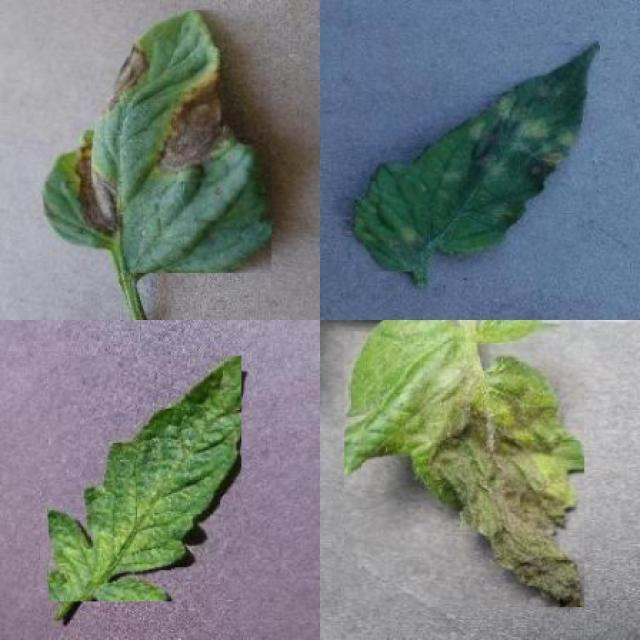Early Blight: (42, 10, 272, 274)
Late Blight: (345, 320, 585, 607)
Leaf Mold: (356, 41, 600, 272)
Mosaic Virus: (48, 356, 242, 601)
